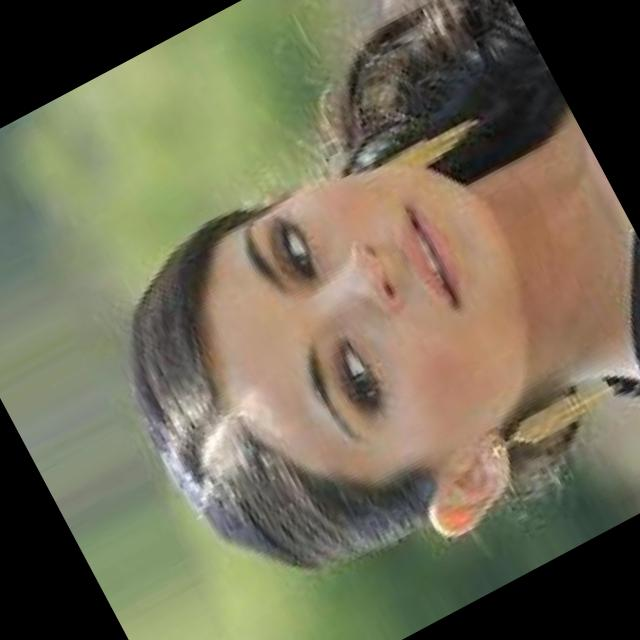bareface: (178, 133, 565, 529)
